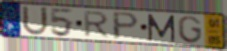5: (49, 7, 76, 38)
G: (177, 15, 204, 45)
M: (147, 13, 177, 43)
P: (112, 11, 141, 41)
R: (83, 10, 111, 39)
U: (21, 4, 50, 37)
